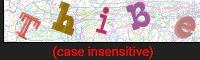B: (124, 1, 158, 33)
T: (12, 7, 44, 40)
e: (171, 11, 198, 39)
h: (53, 2, 80, 40)
i: (89, 4, 120, 39)
